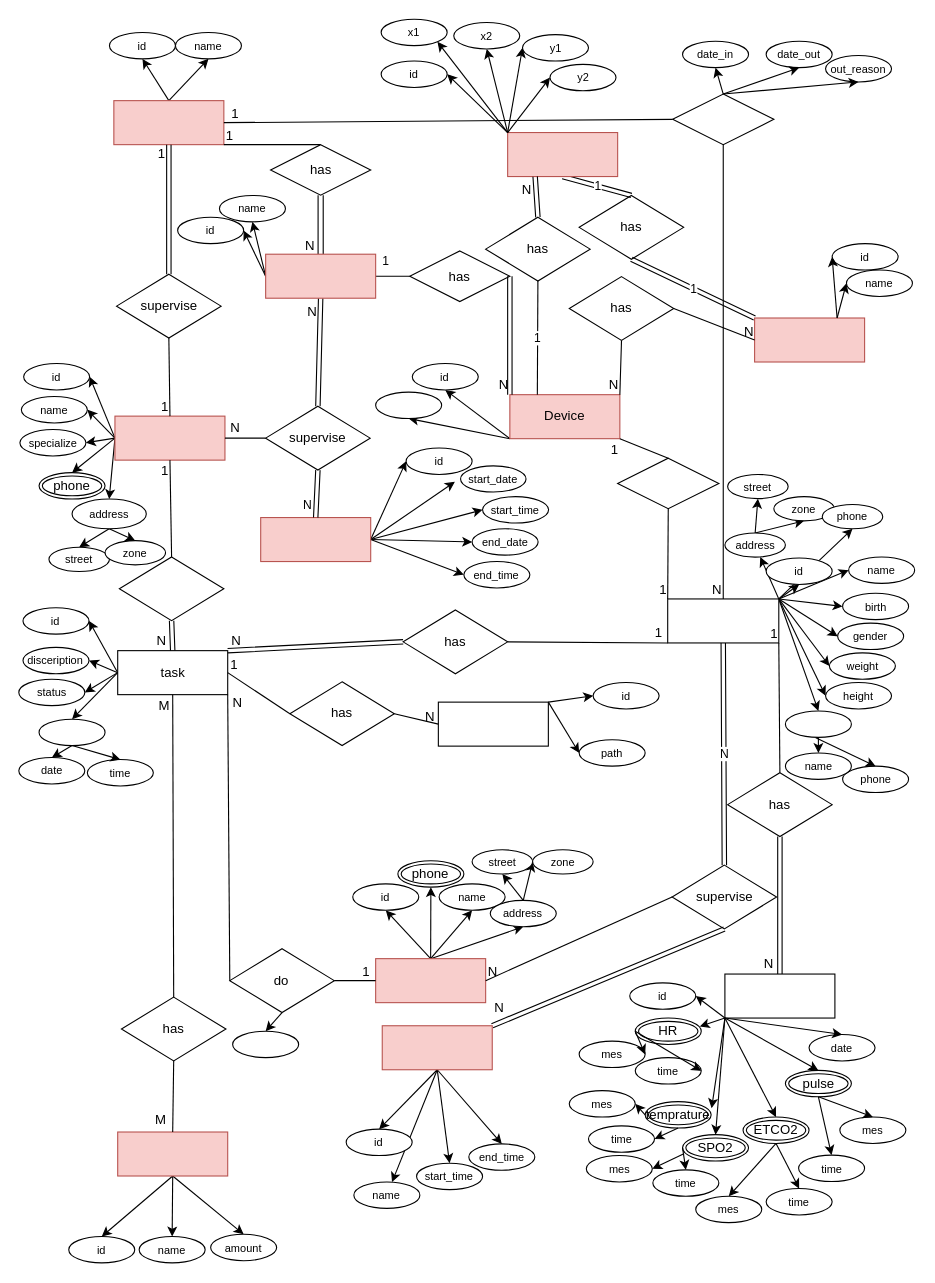
The diagram is 935 pixels wide and 1283 high, and some of its shapes have lost their labels. Here are the shapes that lost their labels. From the top down, the centre of each, then its label:
At point (168, 122): "ICUs".
At point (723, 119): "in".
At point (562, 154): "Coordinates".
At point (320, 275): "Unit".
At point (809, 339): "Sign".
At point (408, 405): "type".
At point (169, 437): "Doctors".
At point (668, 483): "on".
At point (315, 539): "shift_doctor".
At point (171, 588): "set".
At point (723, 620): "Patients".
At point (71, 732): "duedate".
At point (492, 723): "Image".
At point (817, 723): "companion".
At point (430, 980): "Nurse".
At point (779, 995): "Vital signs".
At point (265, 1044): "donedate".
At point (436, 1047): "shift_nurse".
At point (172, 1153): "medicine".
